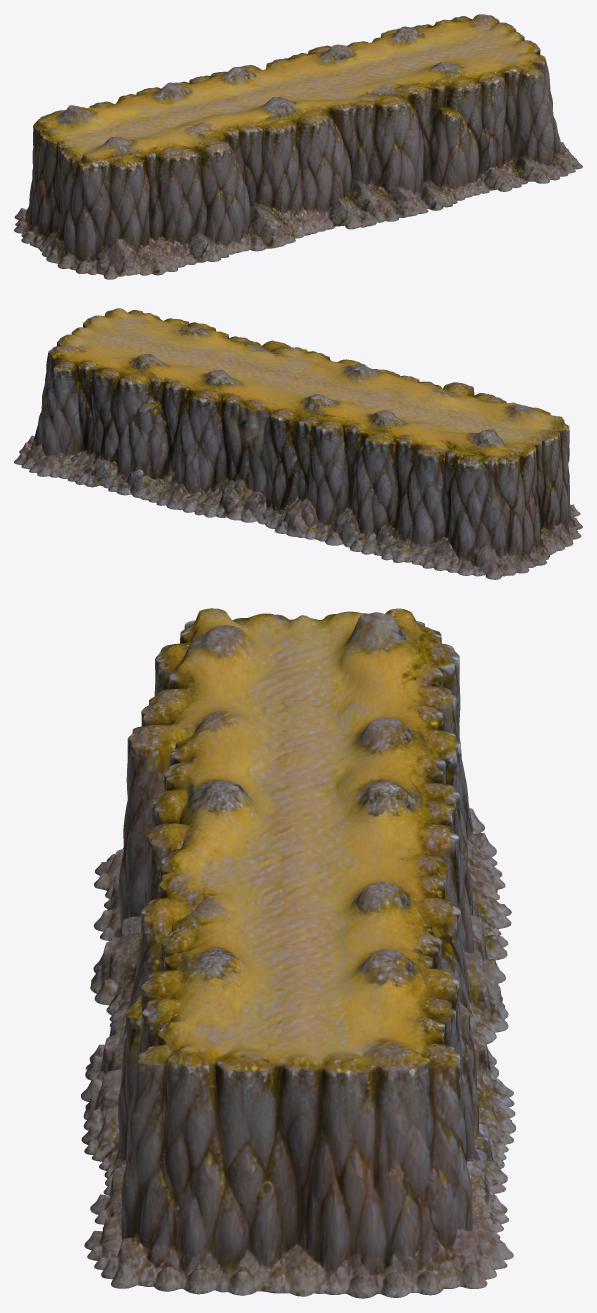
Rendered from cliff_wall.glb.
3 views of the same model, one above another, from view 1: azimuth 30°, elevation 25°; view 2: azimuth 150°, elevation 25°; view 3: azimuth 270°, elevation 25° (orthographic). The views are drawn at different scales.
Parts seen in each view (by area): view 1: material; view 2: material; view 3: material.
Boxes of the visible parts, x1,y1,x2,y2 form: material: (14, 14, 582, 279); material: (14, 308, 582, 579); material: (81, 608, 515, 1298).
Size of the model in its own units: 1.16 by 0.2602 by 0.4288.
1 material, 1 textured.
